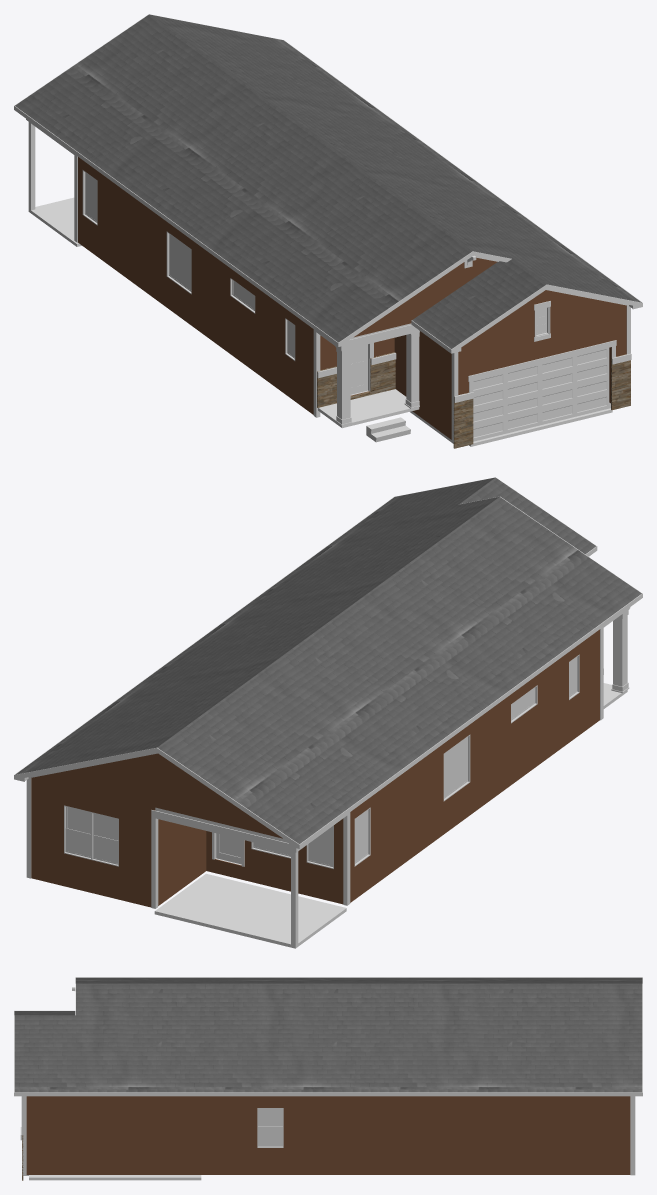
The model's file is 129-1360-dm-traditional.glb.
3 views of the same model, one above another, from view 1: azimuth 30°, elevation 25°; view 2: azimuth 150°, elevation 25°; view 3: azimuth 270°, elevation 25° (orthographic). The views are drawn at different scales.
Parts seen in each view (by area): view 1: Basic Roof Wood Rafter 4" - Asphalt Shingle - Insulated_469e, Basic Wall BSB Exterior - Stud_3.5" - Sheathing_0.5" - _a010, Traditional - BSB Exterior - Overhead Garage Door - Clo_c90a, Basic Wall BSB Exterior - Stud_3.5" - Sheathing_0.5" - _530c, Basic Wall BSB Exterior - Stud_3.5" - Sheathing_0.5" - _44ac, Fascia Fascia-Flat 1x6 w/12" Soffit Bd [4442675], Basic Wall BSB Exterior - Stud_3.5" - Sheathing_0.5" - _2803, Basic Wall BSB Exterior - Stud_3.5" - Sheathing_0.5" - _ab2a, Basic Wall BSB Exterior - Stud_3.5" - Sheathing_0.5" - _9199, Basic Wall BSB Exterior - Stud_3.5" - Sheathing_0.5" - _d49c, Basic Wall BSB Exterior - Brick Veneer_2" [4442060], Floor BSB Concrete Slab - 4" - Slope Option [4260174] (+14 smaller); view 2: Basic Roof Wood Rafter 4" - Asphalt Shingle - Insulated_469e, Basic Wall BSB Exterior - Stud_3.5" - Sheathing_0.5" - _a010, Basic Wall BSB Exterior - Stud_3.5" - Sheathing_0.5" - _e5d4, Floor BSB Concrete Slab - 4" - Slope Option [4260206], Basic Wall BSB Exterior - Stud_3.5" - Sheathing_0.5" - _85fa, Basic Wall BSB Exterior - Stud_3.5" - Sheathing_0.5" - _44ac, Basic Wall BSB Exterior - Stud_3.5" - Sheathing_0.5" - _a39f, Fascia Fascia-Flat 1x6 w/12" Soffit Bd [4442675], Basic Wall BSB Exterior - Stud_3.5" - Sheathing_0.5" - _ab2a, Basic Wall BSB Exterior - Stud_3.5" - Sheathing_0.5" - _99a9, Trim - Corner Boards1 Trim - Corner Boards [4442015], BSB Single Hung 3050 SH w/ Sill [4265751] (+8 smaller); view 3: Basic Roof Wood Rafter 4" - Asphalt Shingle - Insulated_469e, Basic Wall BSB Exterior - Stud_3.5" - Sheathing_0.5" - _4cd1, Basic Wall BSB Exterior - Stud_3.5" - Sheathing_0.5" - _eddb, Basic Wall BSB Exterior - Stud_3.5" - Sheathing_0.5" - _1699, Fascia Fascia-Flat 1x6 w/12" Soffit Bd [4442675], BSB Single Hung 3050 SH w/ Sill [4265274], Floor BSB Concrete Slab - 4" - Slope Option [4274134], Trim - Corner Boards1 Trim - Corner Boards [4442015].
Boxes of the visible parts, x1,y1,x2,y2 form: Basic Roof Wood Rafter 4" - Asphalt Shingle - Insulated_469e: [15, 14, 641, 348]; Basic Wall BSB Exterior - Stud_3.5" - Sheathing_0.5" - _a010: [78, 157, 210, 339]; Traditional - BSB Exterior - Overhead Garage Door - Clo_c90a: [473, 347, 610, 441]; Basic Wall BSB Exterior - Stud_3.5" - Sheathing_0.5" - _530c: [458, 305, 626, 403]; Basic Wall BSB Exterior - Stud_3.5" - Sheathing_0.5" - _44ac: [211, 254, 273, 385]; Fascia Fascia-Flat 1x6 w/12" Soffit Bd [4442675]: [14, 14, 642, 353]; Basic Wall BSB Exterior - Stud_3.5" - Sheathing_0.5" - _2803: [394, 331, 451, 439]; Basic Wall BSB Exterior - Stud_3.5" - Sheathing_0.5" - _ab2a: [274, 300, 311, 412]; Basic Wall BSB Exterior - Stud_3.5" - Sheathing_0.5" - _9199: [467, 290, 624, 343]; Basic Wall BSB Exterior - Stud_3.5" - Sheathing_0.5" - _d49c: [354, 257, 497, 337]; Basic Wall BSB Exterior - Brick Veneer_2" [4442060]: [453, 354, 630, 448]; Floor BSB Concrete Slab - 4" - Slope Option [4260174]: [318, 389, 419, 428]; Basic Roof Wood Rafter 4" - Asphalt Shingle - Insulated_469e: [15, 477, 641, 843]; Basic Wall BSB Exterior - Stud_3.5" - Sheathing_0.5" - _a010: [350, 710, 490, 902]; Basic Wall BSB Exterior - Stud_3.5" - Sheathing_0.5" - _e5d4: [31, 777, 155, 907]; Floor BSB Concrete Slab - 4" - Slope Option [4260206]: [154, 873, 346, 948]; Basic Wall BSB Exterior - Stud_3.5" - Sheathing_0.5" - _85fa: [33, 753, 282, 838]; Basic Wall BSB Exterior - Stud_3.5" - Sheathing_0.5" - _44ac: [490, 661, 556, 800]; Basic Wall BSB Exterior - Stud_3.5" - Sheathing_0.5" - _a39f: [206, 818, 343, 904]; Fascia Fascia-Flat 1x6 w/12" Soffit Bd [4442675]: [14, 477, 642, 848]; Basic Wall BSB Exterior - Stud_3.5" - Sheathing_0.5" - _ab2a: [557, 632, 596, 751]; Basic Wall BSB Exterior - Stud_3.5" - Sheathing_0.5" - _99a9: [158, 819, 206, 905]; Trim - Corner Boards1 Trim - Corner Boards [4442015]: [26, 628, 603, 908]; BSB Single Hung 3050 SH w/ Sill [4265751]: [91, 812, 118, 866]; Basic Roof Wood Rafter 4" - Asphalt Shingle - Insulated_469e: [14, 977, 642, 1092]; Basic Wall BSB Exterior - Stud_3.5" - Sheathing_0.5" - _4cd1: [202, 1096, 630, 1174]; Basic Wall BSB Exterior - Stud_3.5" - Sheathing_0.5" - _eddb: [97, 1096, 202, 1174]; Basic Wall BSB Exterior - Stud_3.5" - Sheathing_0.5" - _1699: [26, 1096, 97, 1174]; Fascia Fascia-Flat 1x6 w/12" Soffit Bd [4442675]: [14, 977, 642, 1096]; BSB Single Hung 3050 SH w/ Sill [4265274]: [257, 1108, 283, 1147]; Floor BSB Concrete Slab - 4" - Slope Option [4274134]: [23, 1175, 201, 1180]; Trim - Corner Boards1 Trim - Corner Boards [4442015]: [21, 1096, 635, 1175].
Bounding box in the file's own units: 9.49 × 5.58 × 21.88.
Materials: 3 (2 with a texture image).
